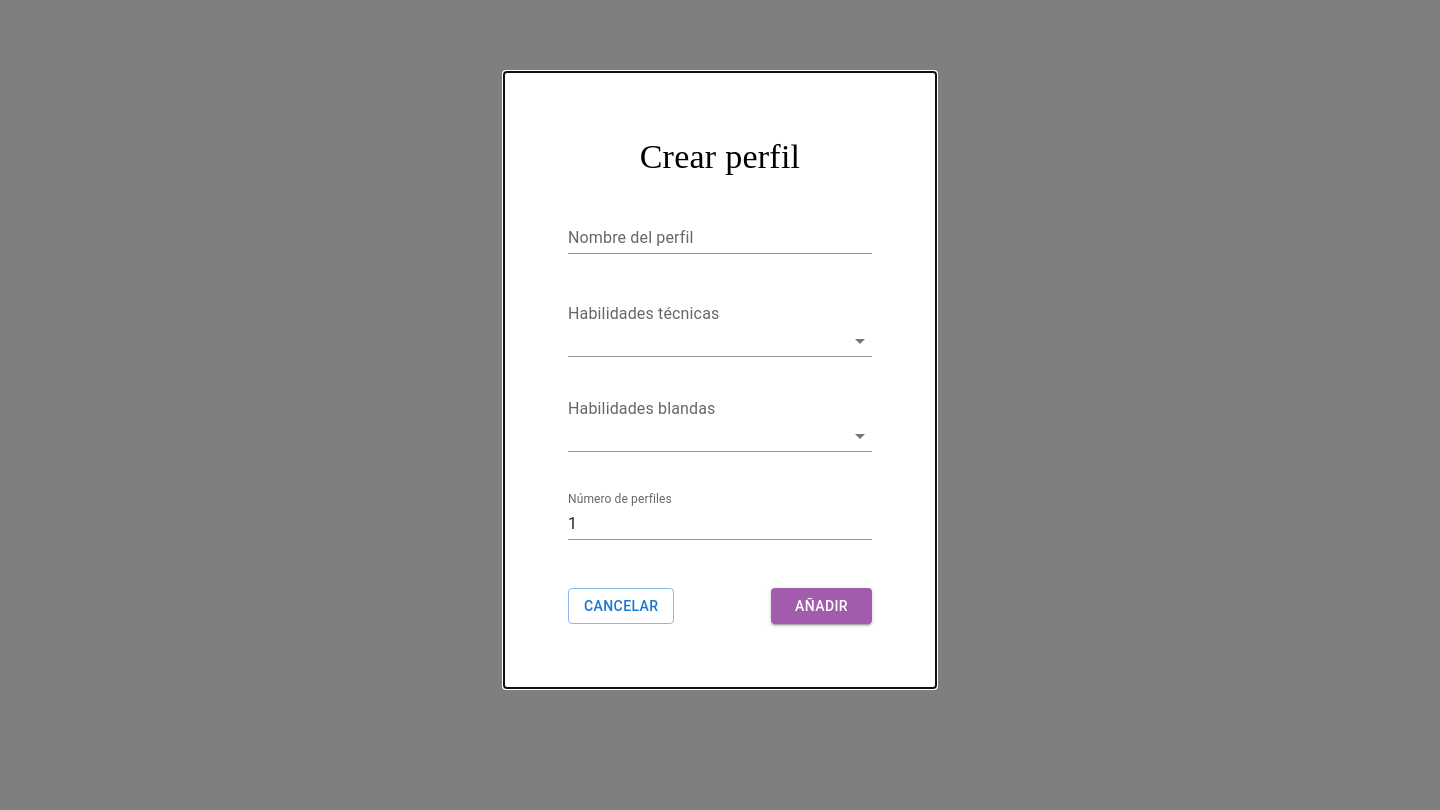
<ProfileModal /> › shows an error when profile name is empty
What coordinates should you click on to do the following:
click the button "AÑADIR"
I would click on:
 (822, 606)
Its box is top-left (771, 588), bottom-right (872, 624).
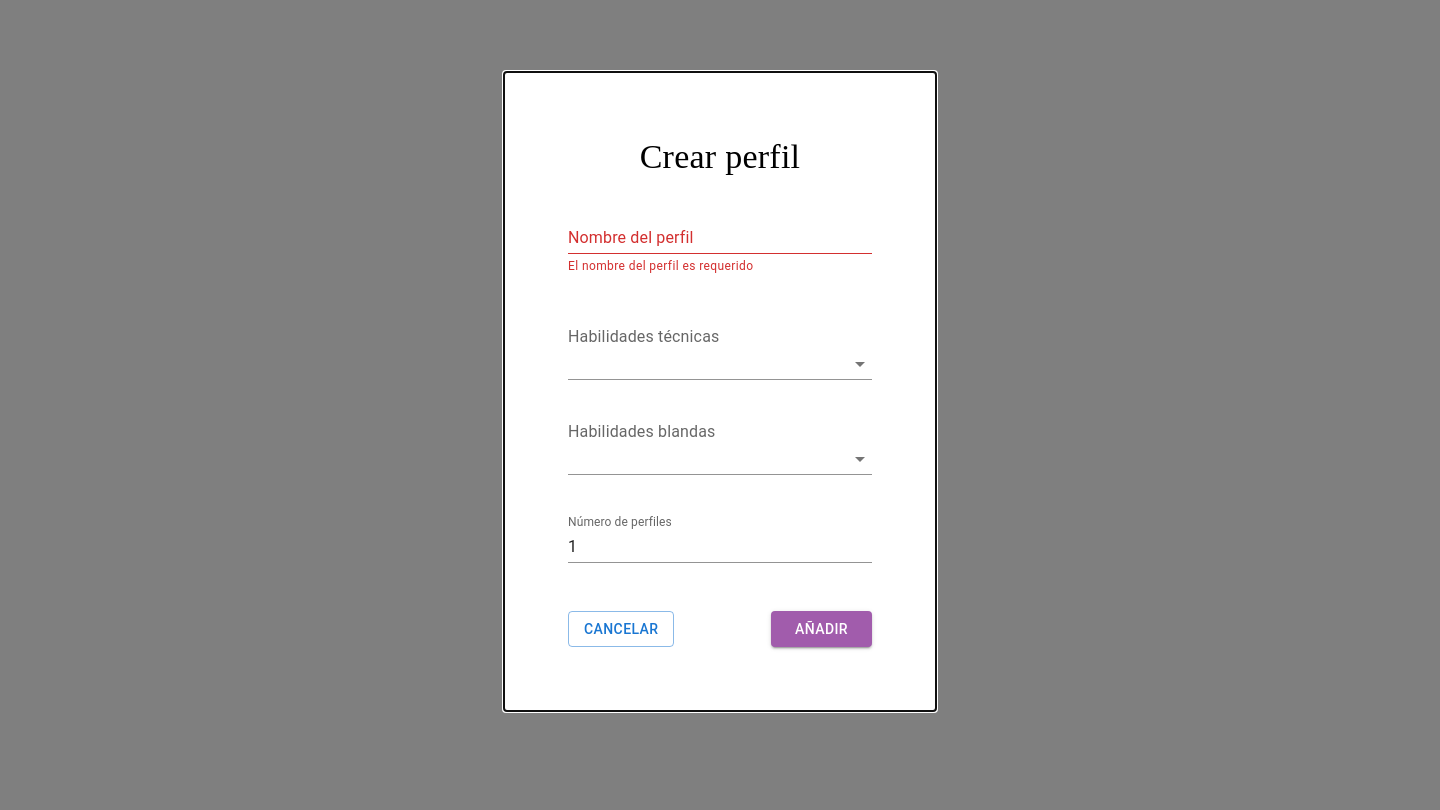
Now the text "El nombre del perfil es requerido" is shown, box top-left (568, 259), bottom-right (754, 273)
